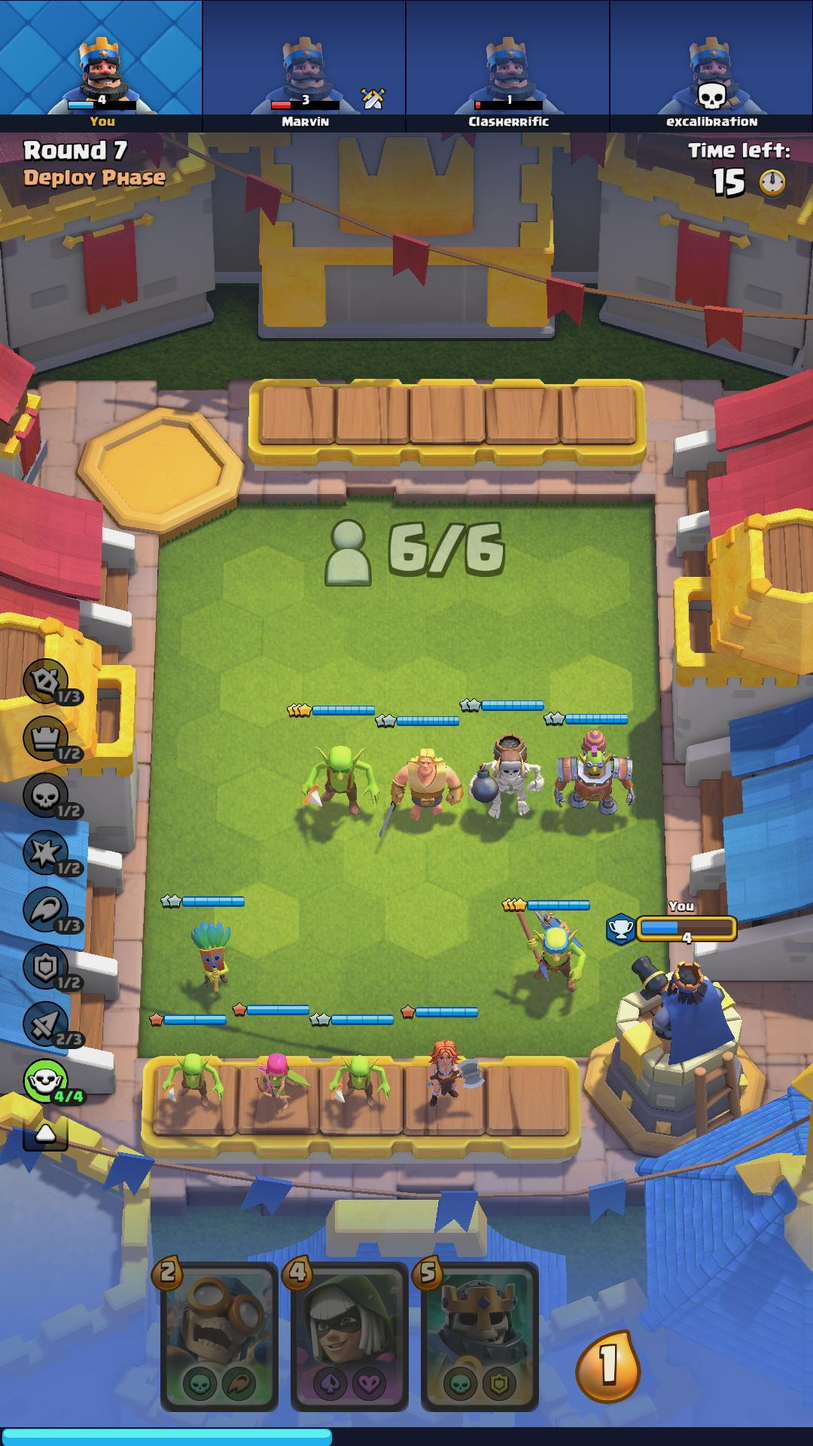archer: (238, 1048, 309, 1113)
dart: (186, 919, 246, 993)
giant: (467, 726, 547, 823)
goblin: (292, 736, 383, 820), (151, 1034, 226, 1116), (317, 1053, 400, 1120)
golden: (386, 733, 469, 840)
hand-bandit: (294, 1267, 408, 1408)
hand-bomber: (161, 1263, 279, 1410)
hand-king: (423, 1263, 537, 1407)
machine: (556, 729, 639, 821)
spear: (517, 913, 595, 995)
valkyrie: (408, 1027, 496, 1111)
